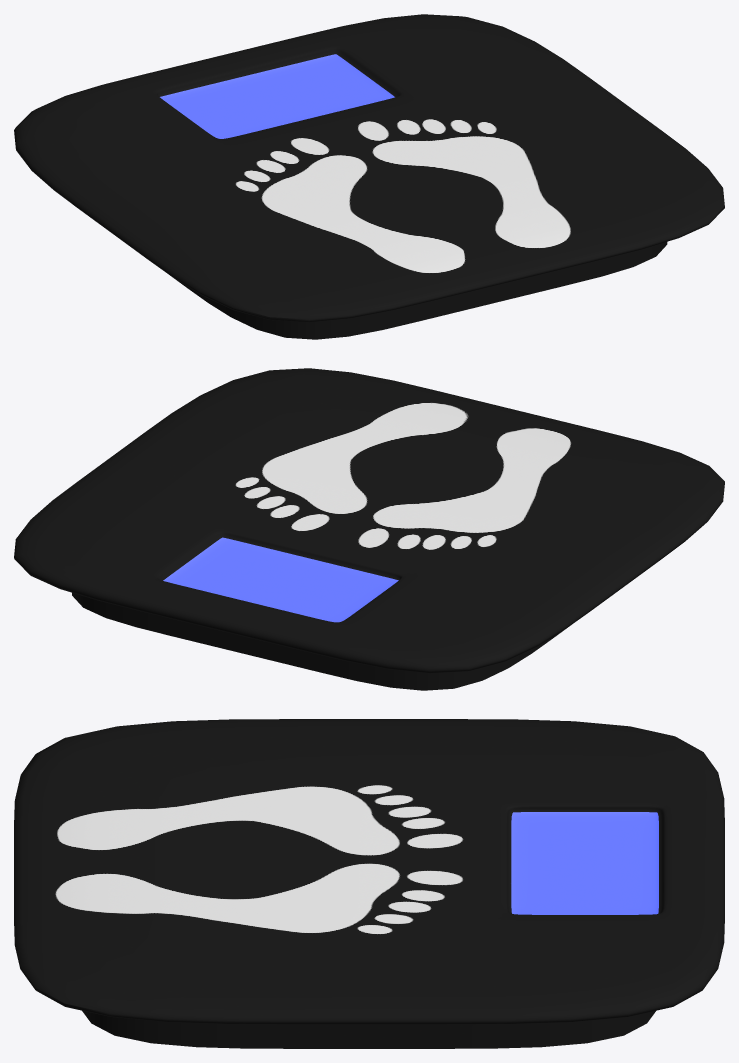
Rendered from Weighing_Scale.fbx.
The picture shows the model from 3 angles, top to bottom: view 1: azimuth 30°, elevation 25°; view 2: azimuth 150°, elevation 25°; view 3: azimuth 270°, elevation 25°; orthographic projection. The views are drawn at different scales.
Parts seen in each view (by area): view 1: Weighing_Scale; view 2: Weighing_Scale; view 3: Weighing_Scale.
Part boxes in pixels (box(x1,y1,x2,y2)): Weighing_Scale: box(14, 14, 724, 339); Weighing_Scale: box(14, 368, 724, 690); Weighing_Scale: box(14, 719, 724, 1048).
Size of the model in its own units: 0.299 by 0.03 by 0.2991.
Materials: 1 (1 with a texture image).
